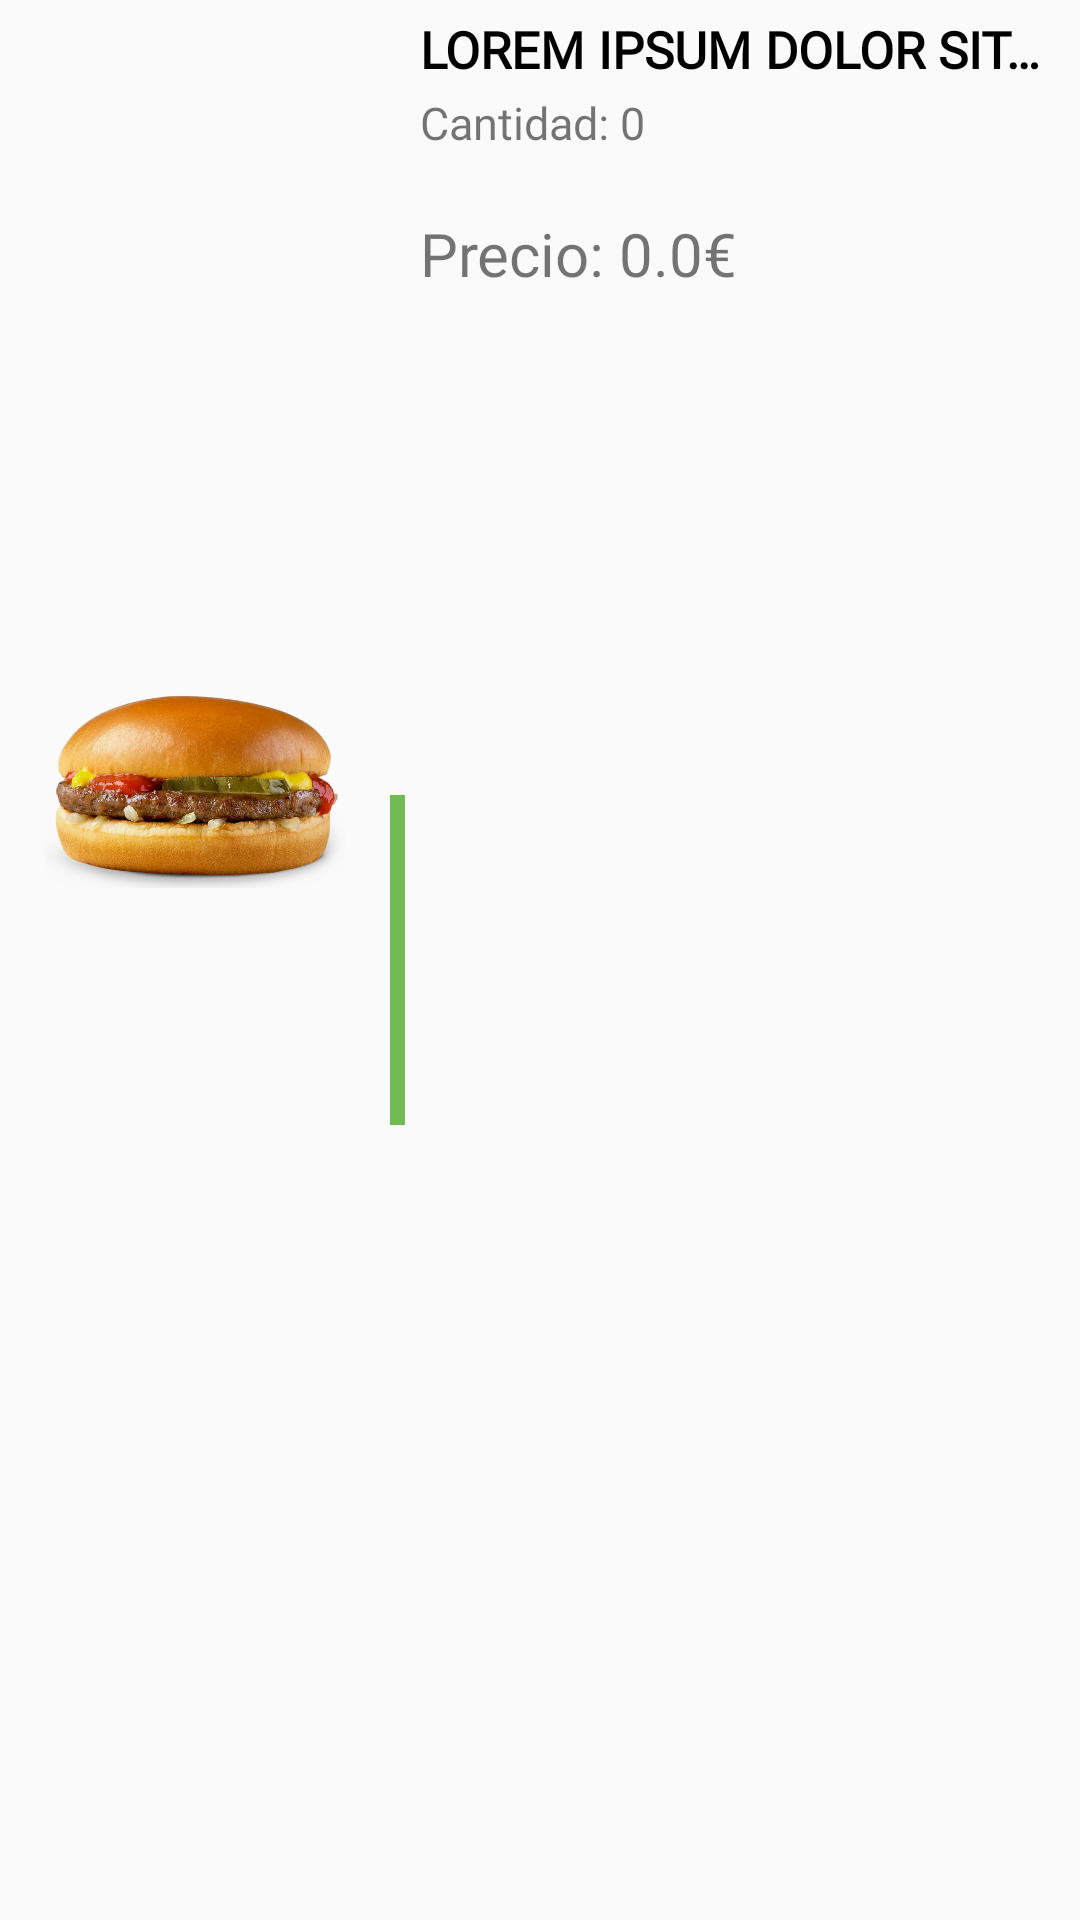

Named icons in this screenshot (1080×1920) and their bounding boxes, (x1, y1, x2, y2):
Imagen del producto: (56, 696, 338, 885)
